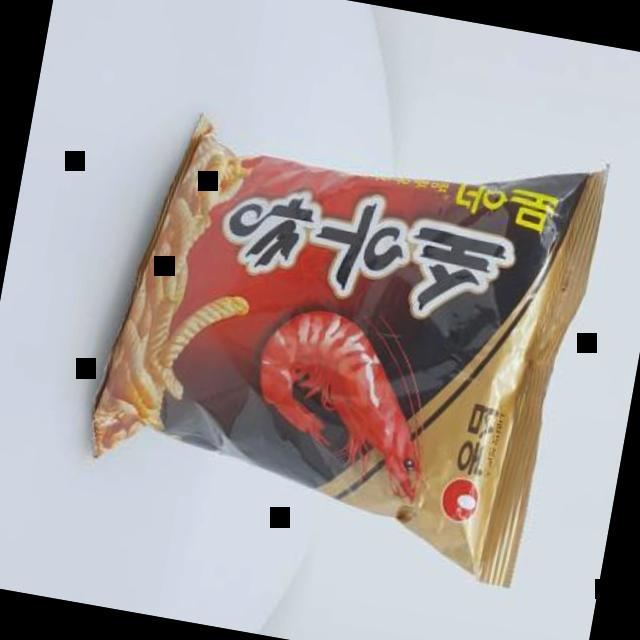snack_bag: (56, 71, 625, 604)
